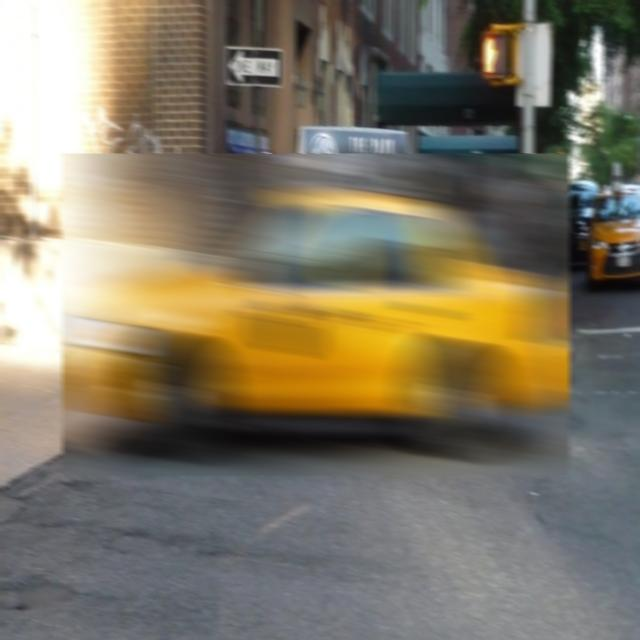Taxi: (61, 153, 570, 476)
